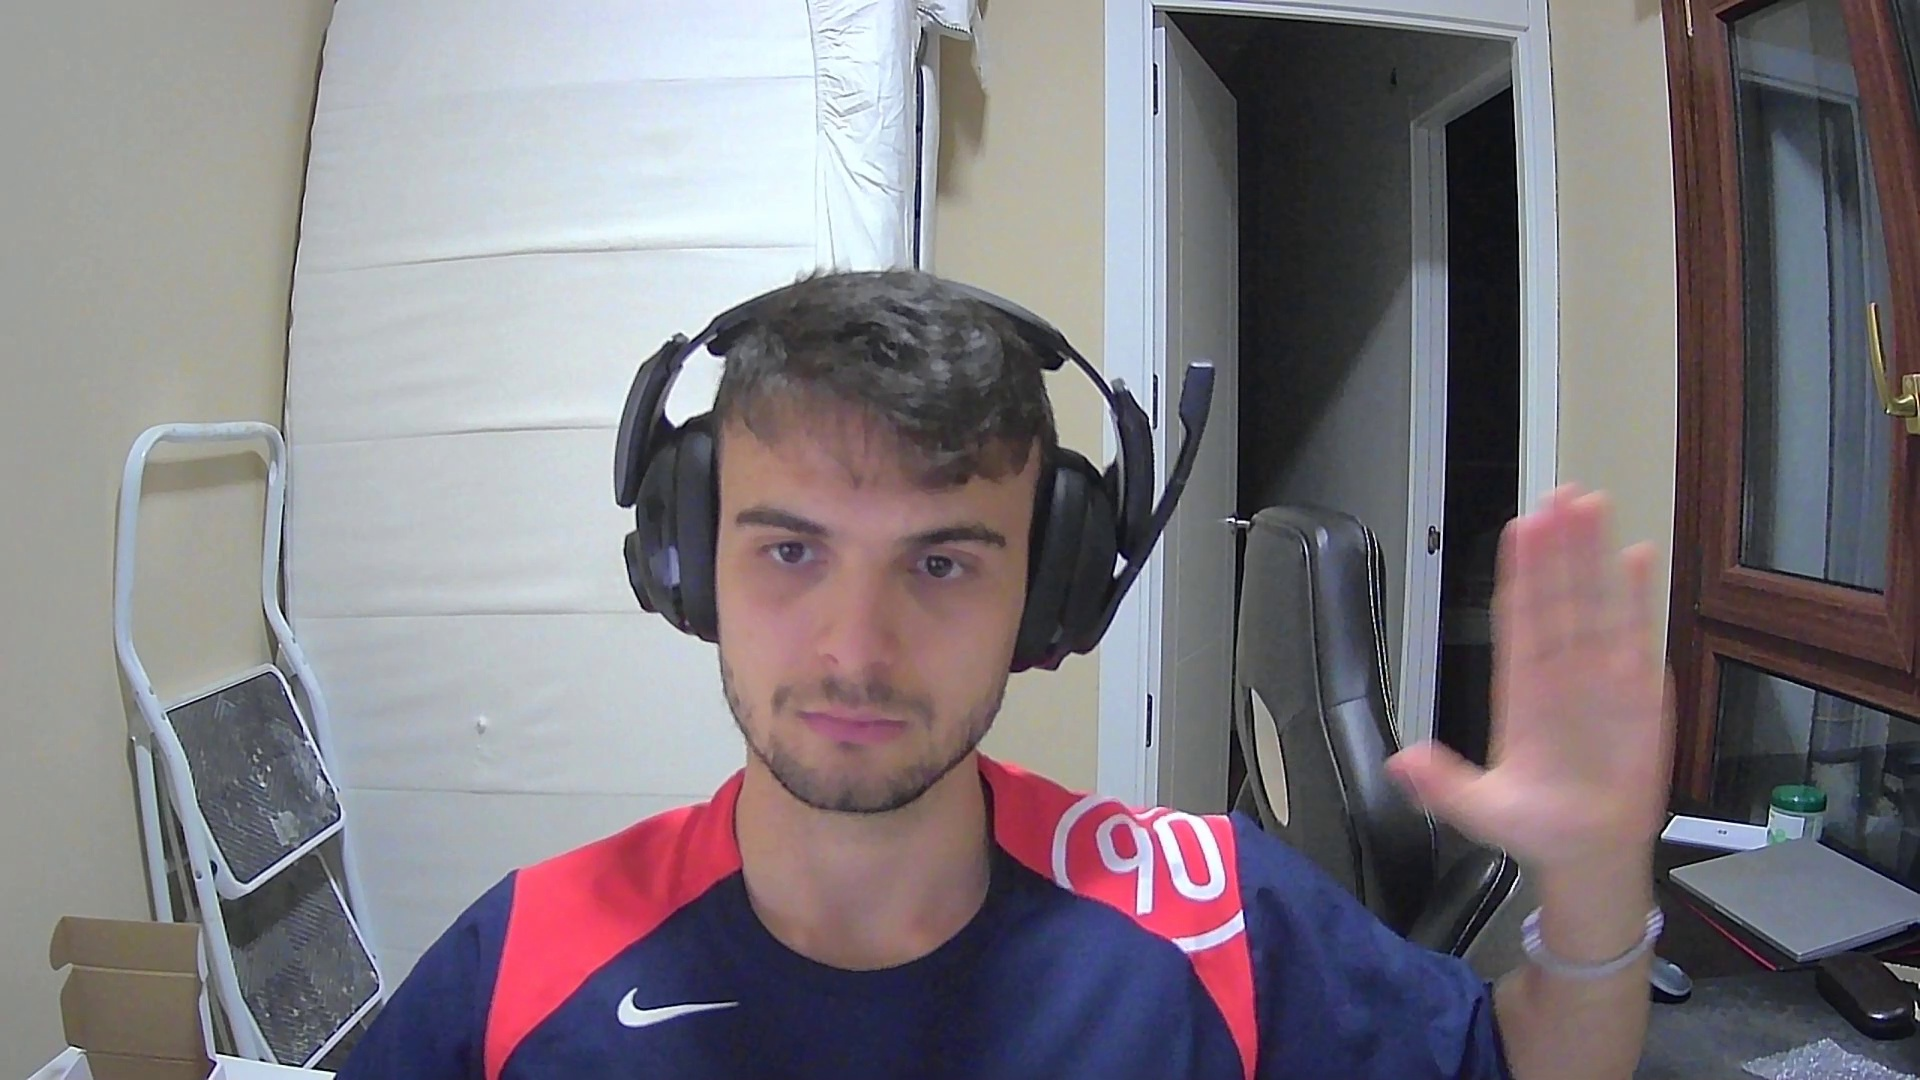Palm: (1378, 480, 1695, 907)
